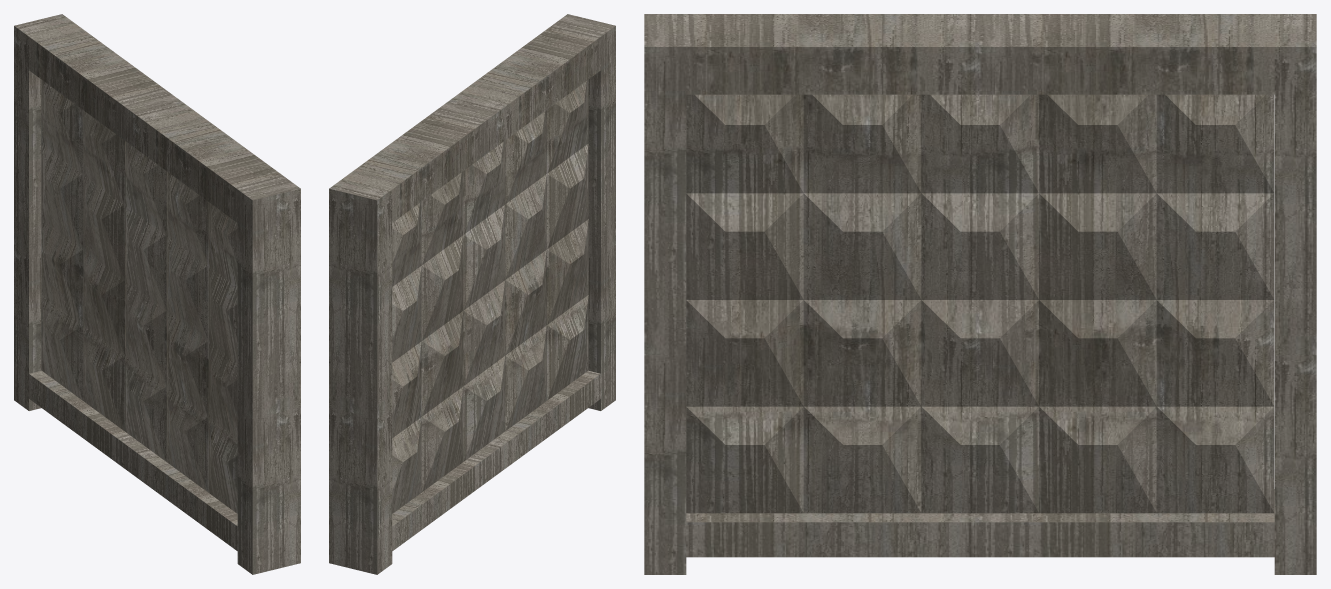
The model's file is fence_rhombus.glb.
3 views of the same model, side by side, from view 1: azimuth 30°, elevation 25°; view 2: azimuth 150°, elevation 25°; view 3: azimuth 270°, elevation 25° (orthographic). The views are drawn at different scales.
Parts seen in each view (by area): view 1: fence_rhombus; view 2: fence_rhombus; view 3: fence_rhombus.
Part boxes in pixels (x1,y1,x2,y2): fence_rhombus: (14,14,300,574); fence_rhombus: (329,14,615,574); fence_rhombus: (644,14,1316,574).
Size of the model in its own units: 0.4 by 2.97 by 3.43.
1 material, 1 textured.
